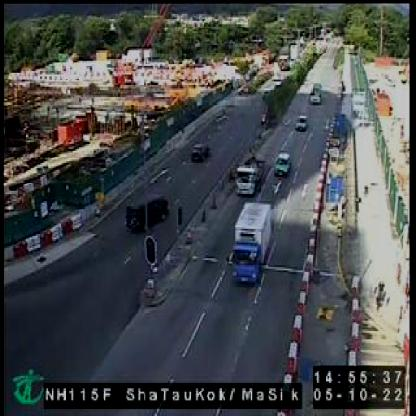Car: (125, 192, 166, 227), (273, 149, 290, 175), (191, 142, 209, 161), (295, 113, 307, 128)
Minibus: (309, 81, 321, 104)
Truck: (233, 201, 270, 281), (236, 154, 264, 194)
